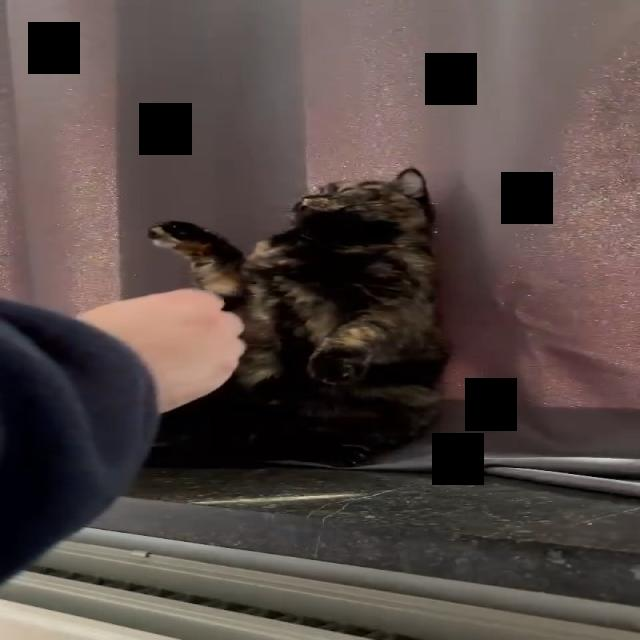authorized: (145, 166, 451, 468)
